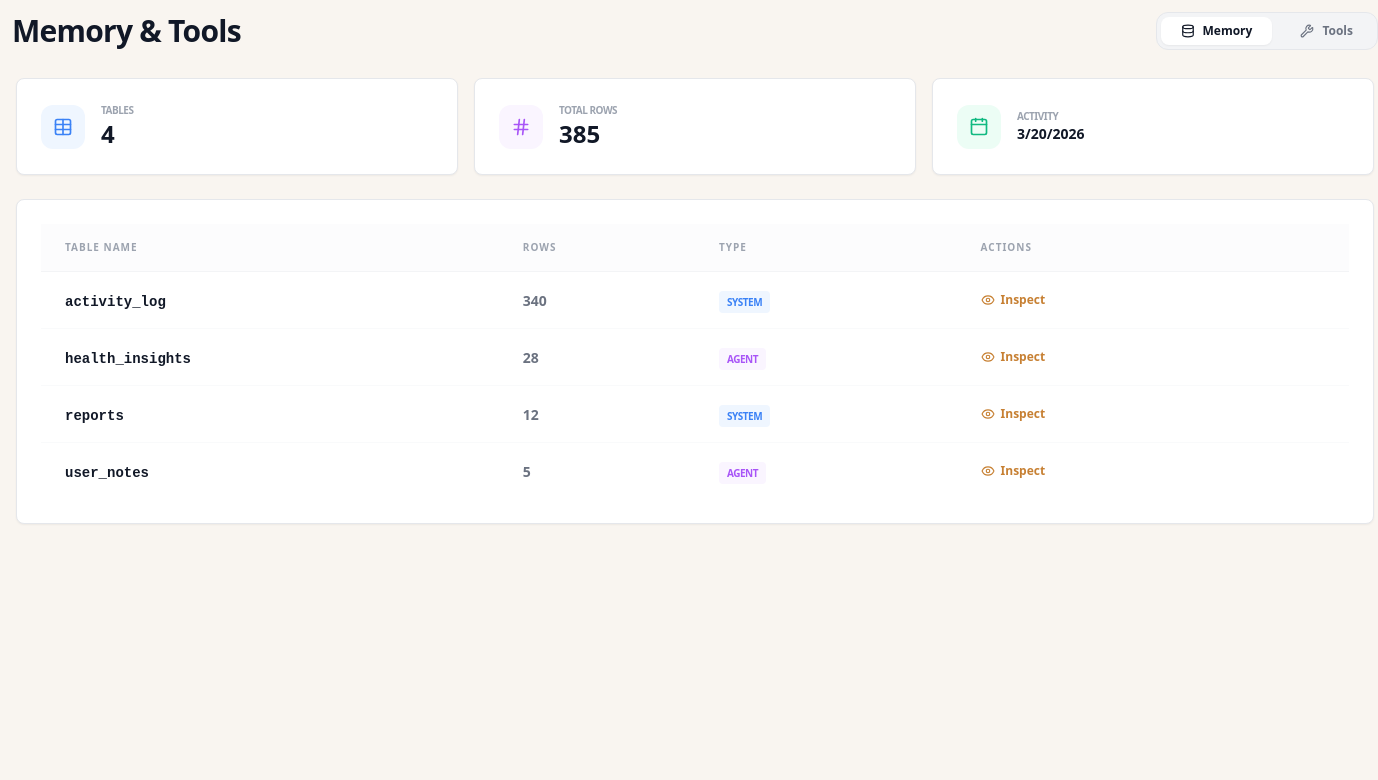
Test: KnowledgeBase (MemoryAndTools) › collapses a table when Collapse button is clicked
The width and height of the screenshot is (1378, 780).
Check: the text "reports" is shown, box [65, 408, 124, 424]
Expand first
Click the button "Inspect" in the row of "activity_log" at (1013, 300), box [981, 292, 1045, 308]
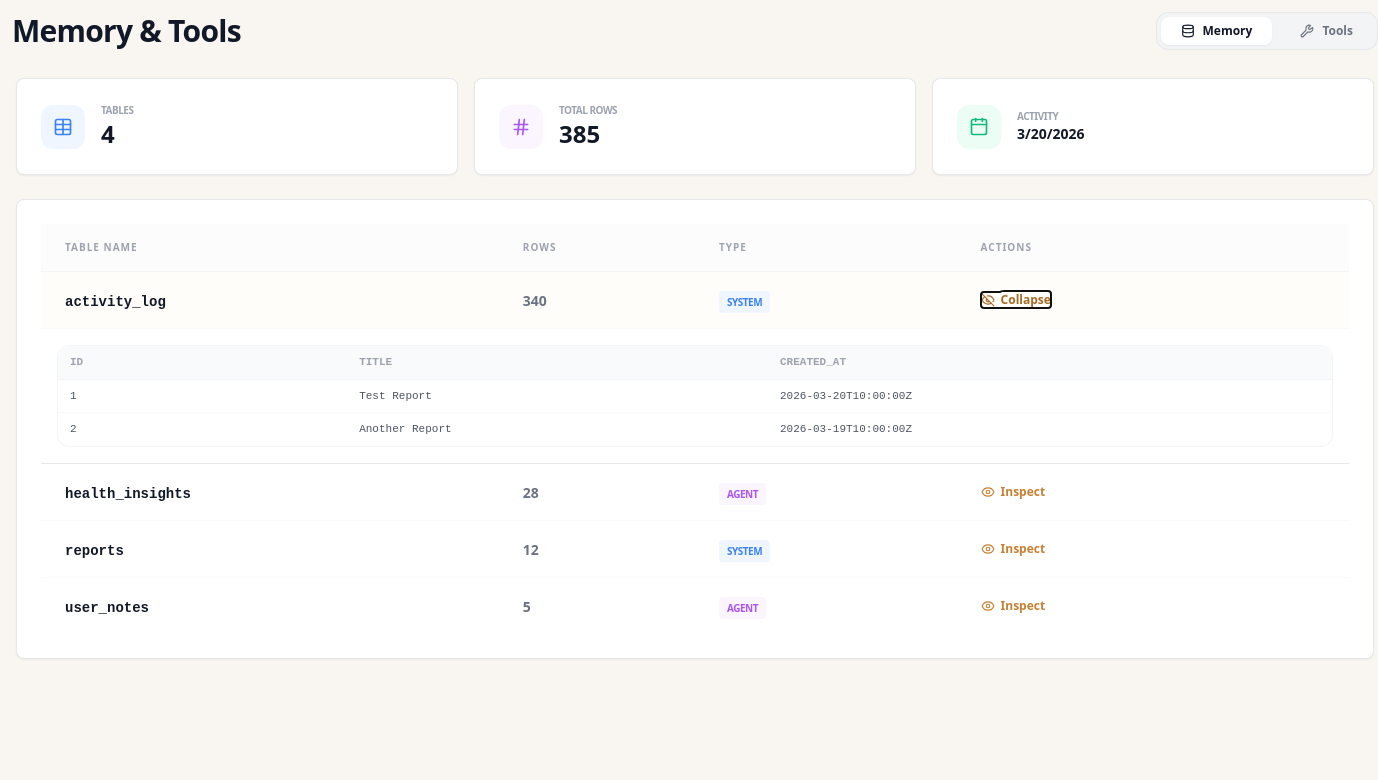
Check: the text "Test Report" is shown, box [347, 379, 768, 412]
Now collapse
Click the button "Collapse" at (1016, 300), box [981, 292, 1051, 308]
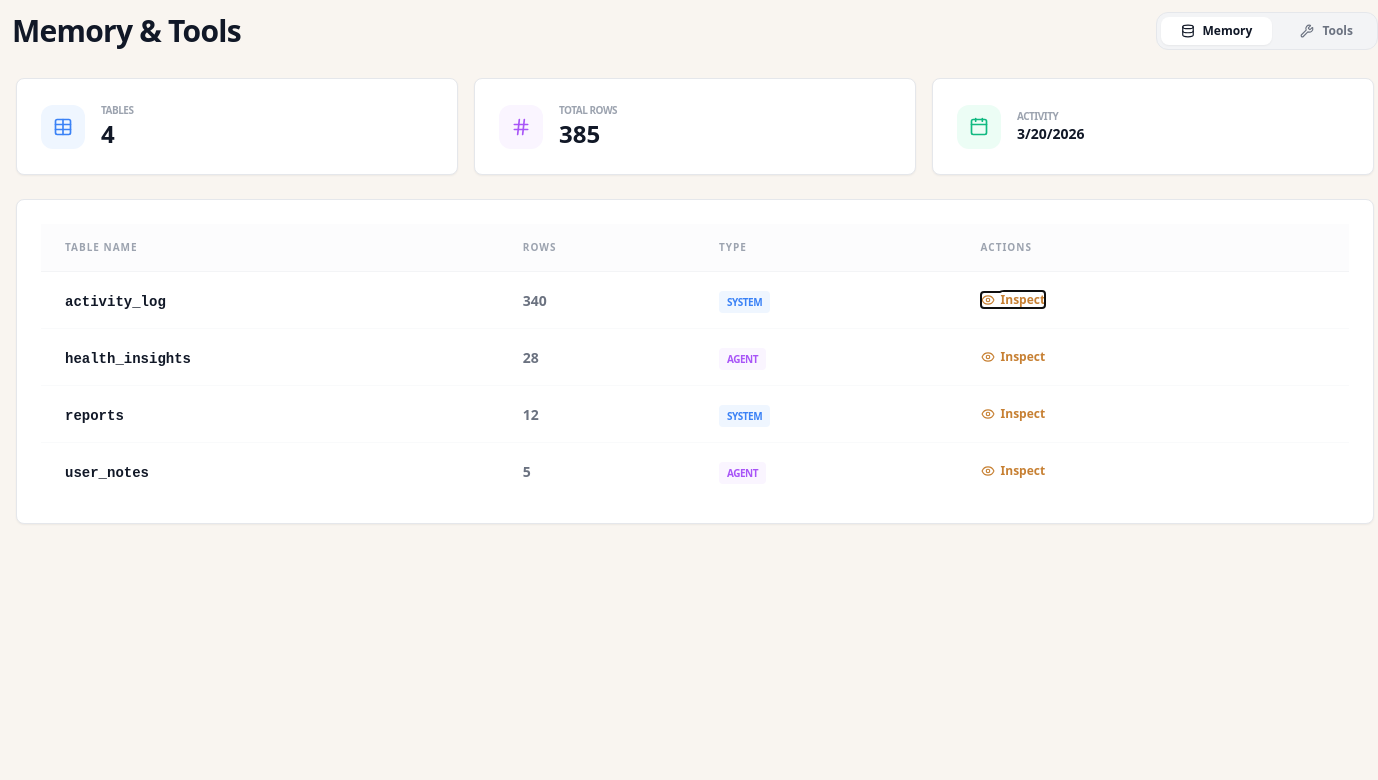
Check: the text "Test Report" is gone
